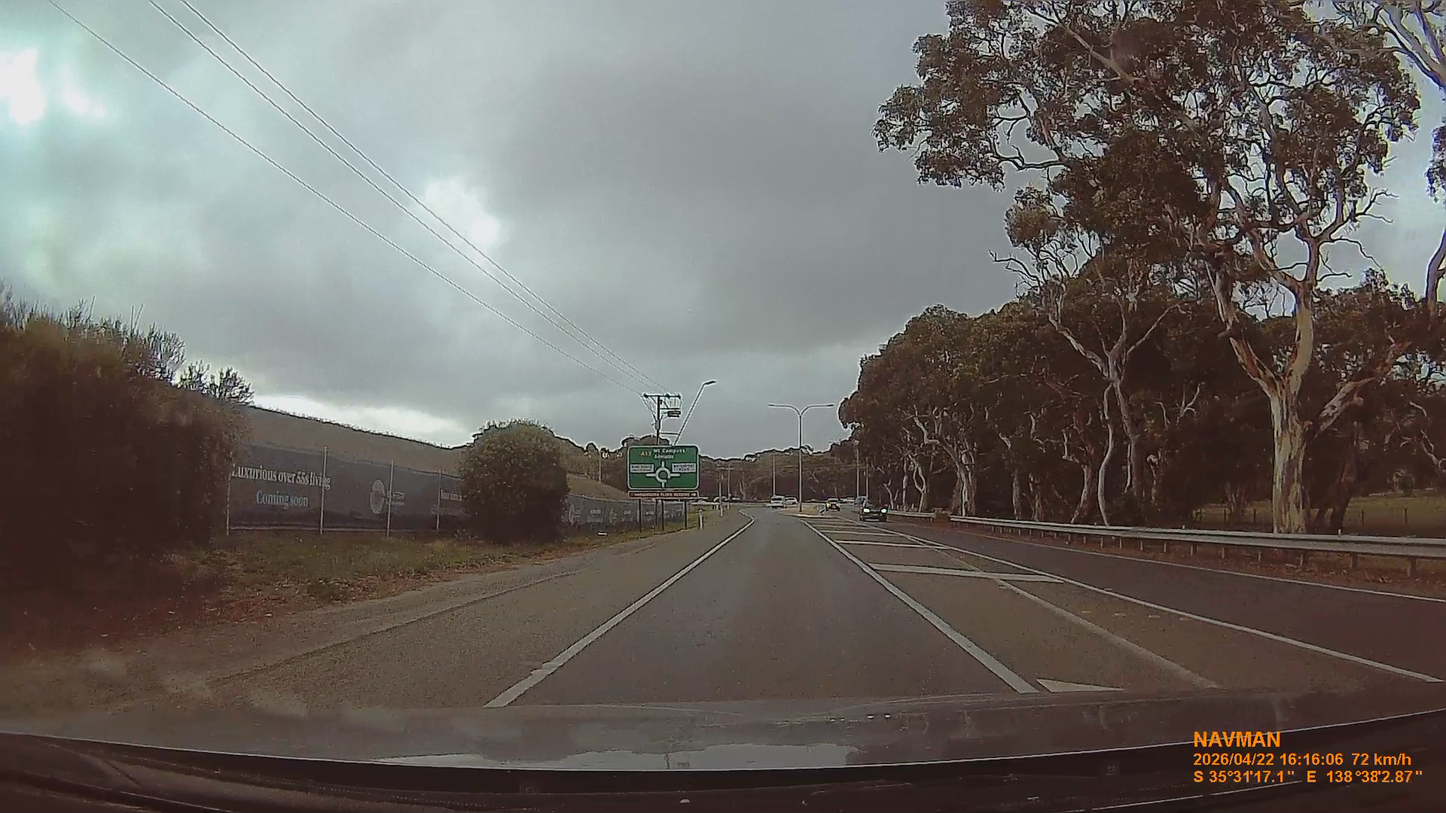road barriers: (951, 516, 1445, 559)
